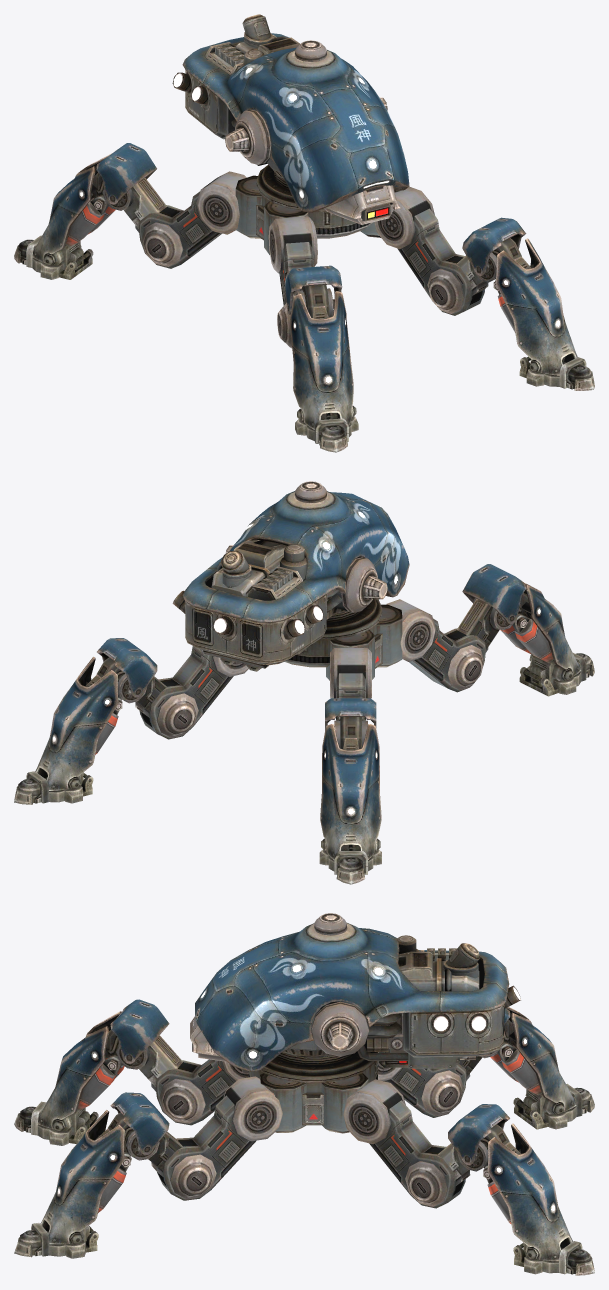
The model's file is Spaceship.glb.
3 renders of one model, top to bottom at view 1: azimuth 30°, elevation 25°; view 2: azimuth 150°, elevation 25°; view 3: azimuth 270°, elevation 25°, orthographic. The views are drawn at different scales.
Bounding box in the file's own units: 17.14 × 12.45 × 24.19.
1 material, 1 textured.
